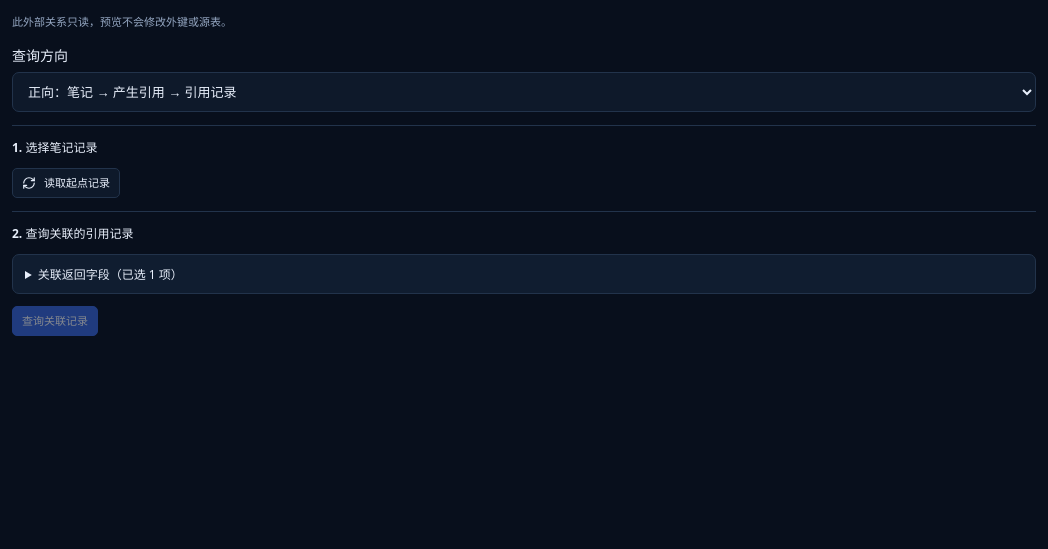
it: 关系当前态数据预览 › 403清理旧关联结果与起点，游标失效不沿用旧页
Step 1. Click the button "读取起点记录" → (66, 183), box [12,168,120,198]
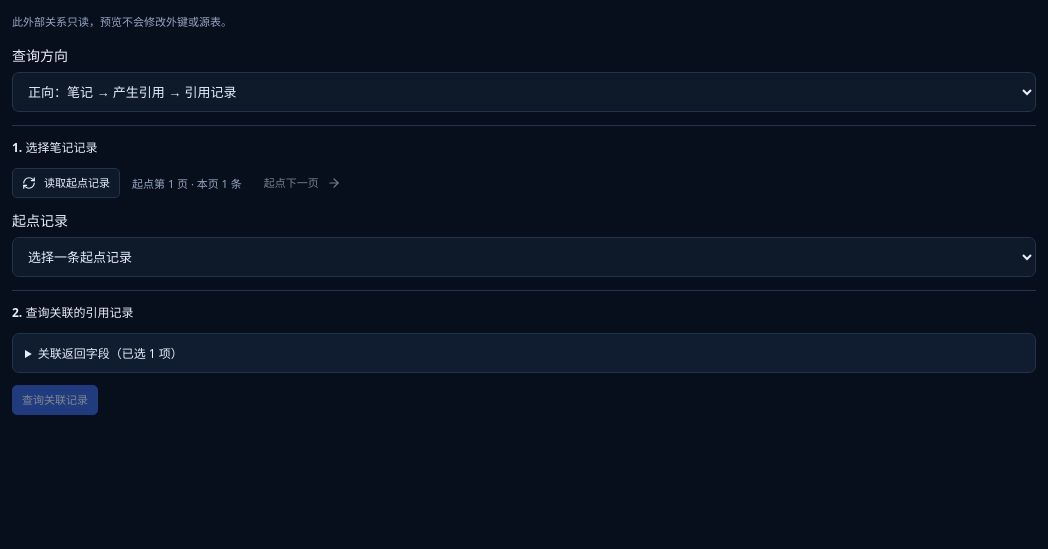
Step 2. Select "Ontology概念 · note-1" in the dropdown labelled "起点记录" → (524, 257), box [12,237,1036,277]
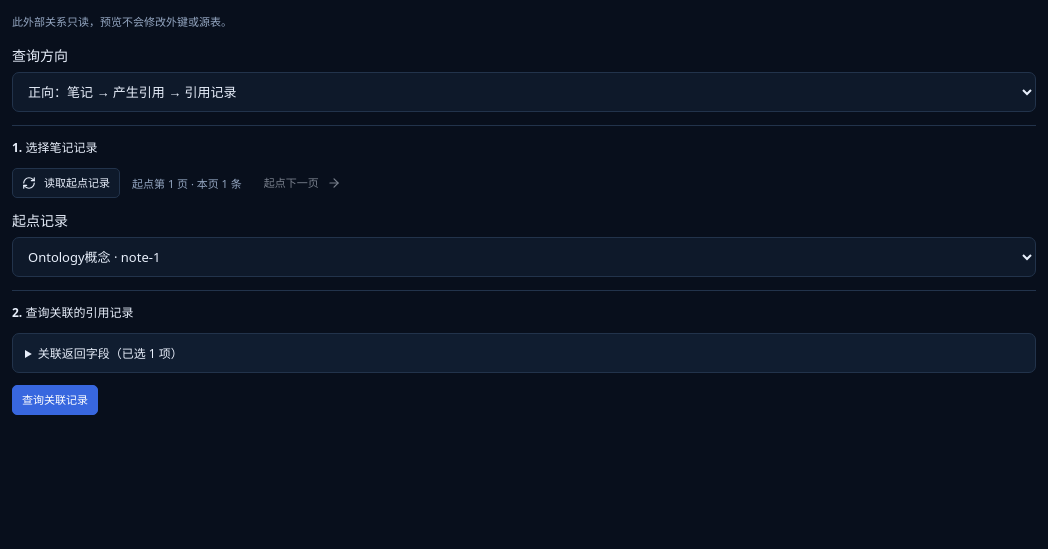
Step 3. Click the button "查询关联记录" → (55, 400), box [12,385,98,415]
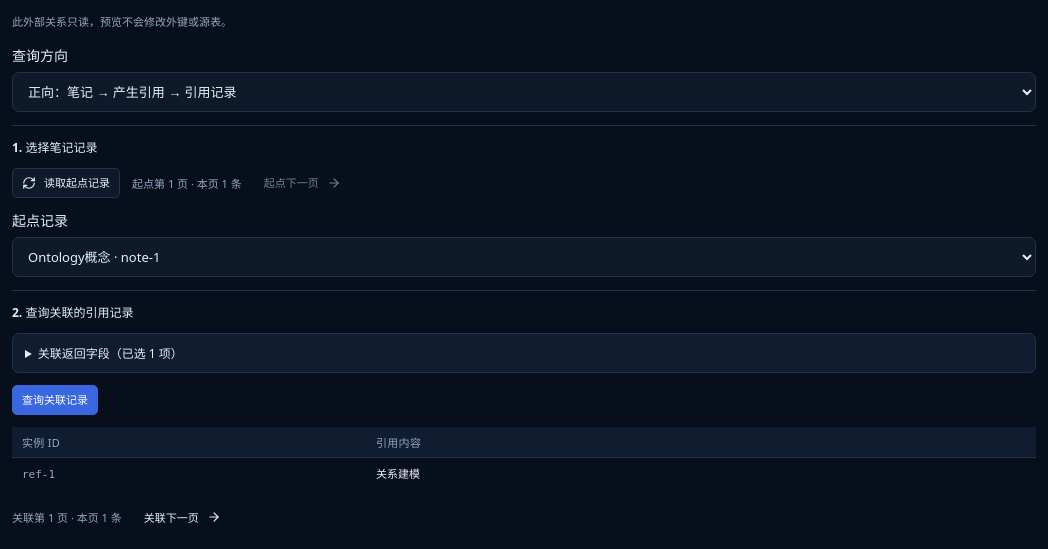
Now the table named "关系数据预览" is shown, box [12,427,1036,490]
Step 4. Click the button "关联下一页" → (182, 517), box [134,502,231,532]
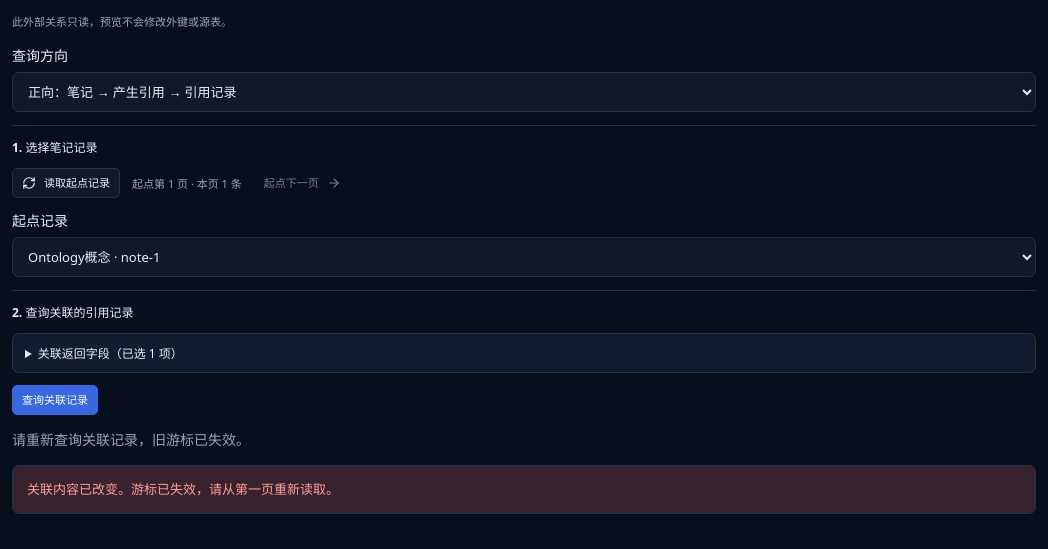
Now the text "请重新查询关联记录，旧游标已失效。" is shown, box [12,430,250,449]
Now the table "关系数据预览" is gone
Step 5. Click the button "查询关联记录" → (55, 400), box [12,385,98,415]
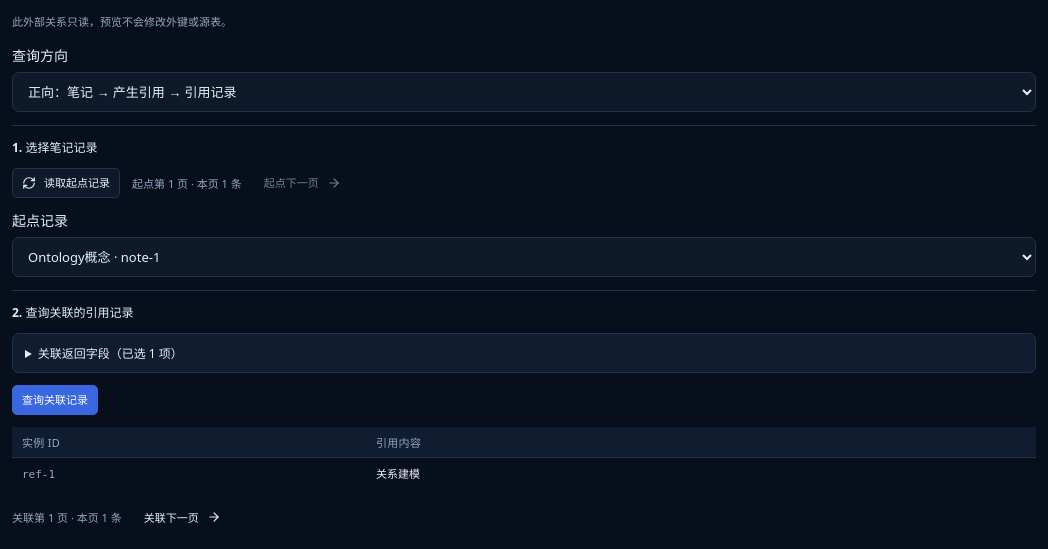
Now the table named "关系数据预览" is shown, box [12,427,1036,490]
Step 6. Click the button "查询关联记录" → (55, 400), box [12,385,98,415]
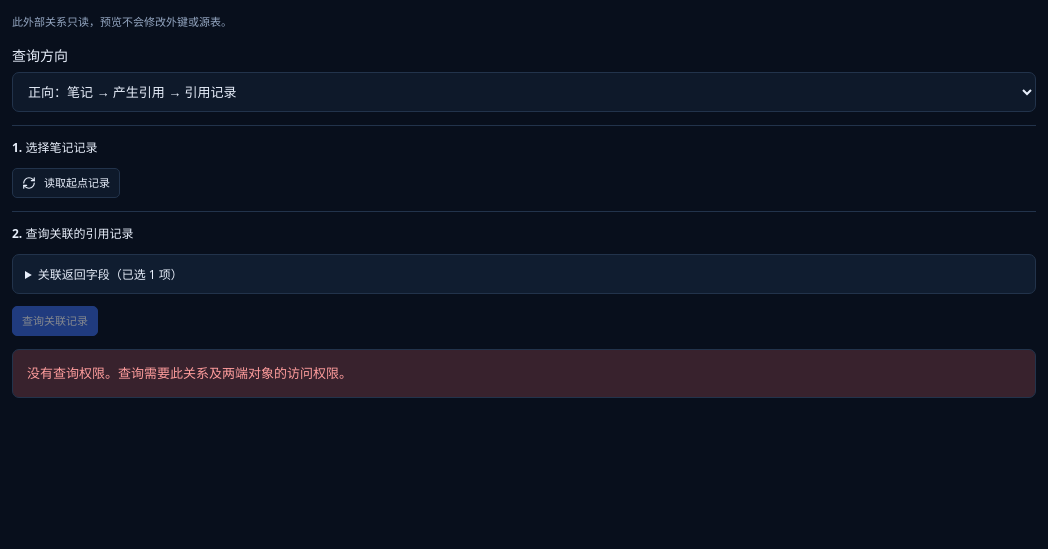
Now the message "没有查询权限。查询需要此关系及两端对象的访问权限。" is shown, box [12,349,1036,398]
Now the table "关系数据预览" is gone
